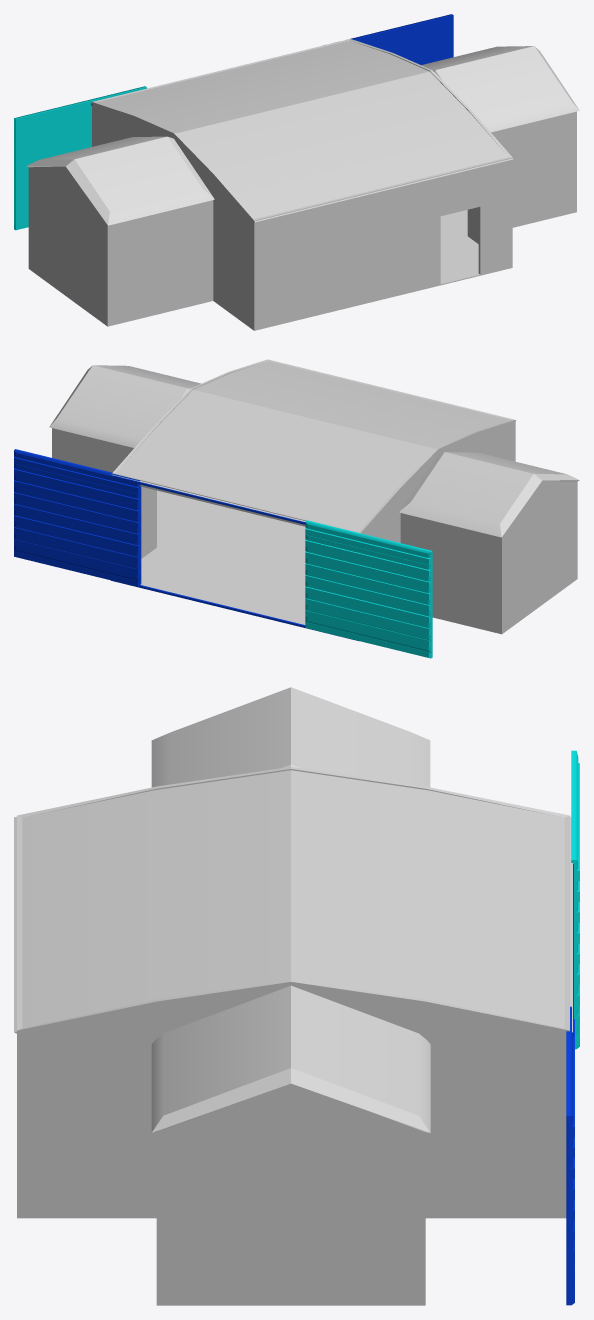
File: Hangar2.fbx
3 views of the same model, one above another, from view 1: azimuth 30°, elevation 25°; view 2: azimuth 150°, elevation 25°; view 3: azimuth 270°, elevation 25° (orthographic). The views are drawn at different scales.
Visible parts, largest first — view 1: MainHangar, Çatı, Kapı2, Kapı1, MainHangar.001, MainHangar.002; view 2: Çatı, MainHangar, Kapı2, Kapı1, MainHangar.001, MainHangar.002, Kapı Tekerleği1, Kapı Tekerleği2; view 3: Çatı, MainHangar, Kapı1, Kapı2, MainHangar.001.
Boxes of the visible parts, bbox=[...] form: MainHangar: bbox=[28, 39, 576, 329]; Çatı: bbox=[27, 40, 579, 225]; Kapı2: bbox=[14, 86, 146, 230]; Kapı1: bbox=[350, 14, 453, 64]; MainHangar.001: bbox=[213, 216, 512, 330]; MainHangar.002: bbox=[28, 210, 576, 326]; Çatı: bbox=[49, 361, 579, 537]; MainHangar: bbox=[52, 359, 577, 633]; Kapı2: bbox=[305, 520, 432, 658]; Kapı1: bbox=[14, 449, 141, 586]; MainHangar.001: bbox=[140, 504, 305, 624]; MainHangar.002: bbox=[157, 490, 577, 634]; Kapı Tekerleği1: bbox=[111, 580, 357, 640]; Kapı Tekerleği2: bbox=[111, 475, 305, 524]; Çatı: bbox=[14, 687, 572, 1132]; MainHangar: bbox=[17, 767, 569, 1303]; Kapı1: bbox=[566, 1006, 574, 1305]; Kapı2: bbox=[571, 750, 579, 1049]; MainHangar.001: bbox=[17, 1216, 566, 1218].
Bounding box in the file's own units: 48323 × 13634 × 29296.
